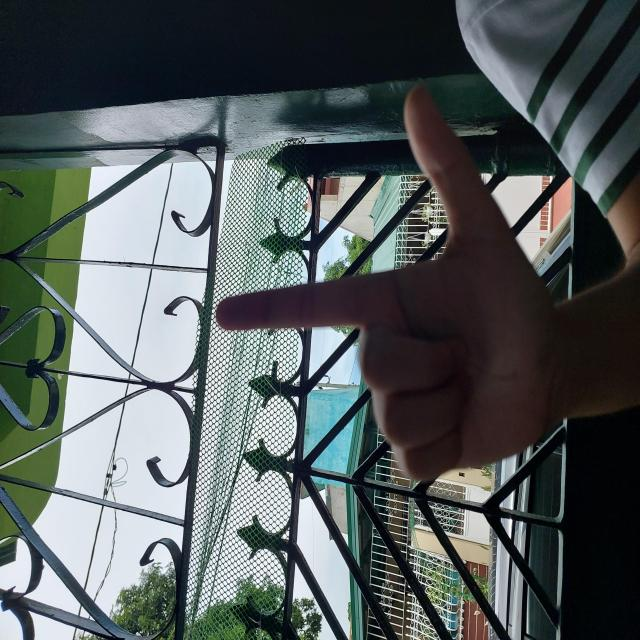L: (156, 211, 562, 573)
